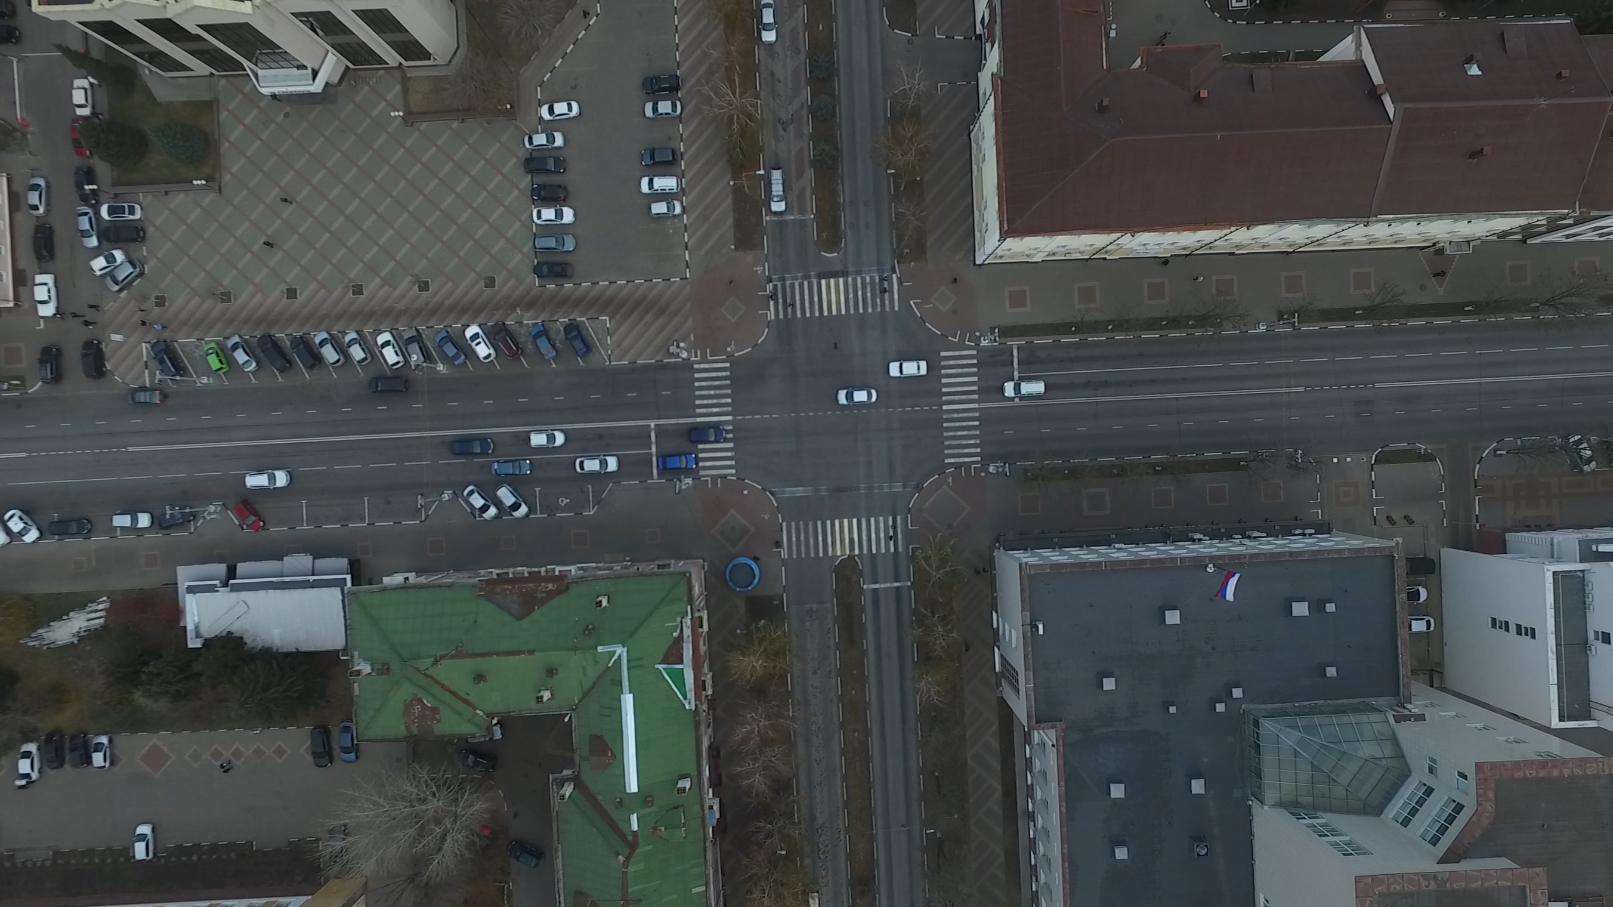car: (147, 341, 187, 383), (459, 484, 500, 521), (257, 332, 292, 374), (1561, 430, 1595, 472), (220, 332, 256, 372), (314, 330, 348, 370), (463, 324, 497, 363), (31, 274, 60, 319), (103, 264, 145, 295), (485, 323, 520, 361), (428, 326, 462, 363), (3, 509, 38, 547), (12, 741, 40, 787), (508, 838, 548, 870), (395, 328, 425, 370), (35, 732, 70, 769), (526, 324, 556, 365), (493, 482, 527, 517), (373, 329, 405, 367), (309, 726, 335, 773), (329, 824, 356, 868), (153, 503, 197, 529), (458, 748, 496, 777), (80, 340, 106, 383), (338, 331, 371, 365), (97, 220, 142, 246), (92, 256, 132, 284), (70, 125, 95, 168), (286, 333, 317, 369), (24, 179, 51, 220), (68, 78, 95, 116), (129, 821, 154, 863), (73, 210, 99, 252), (72, 169, 97, 210), (237, 468, 288, 488), (531, 207, 576, 229), (335, 721, 358, 764), (486, 458, 534, 480), (232, 499, 263, 532), (563, 324, 592, 359), (201, 341, 228, 377), (834, 386, 880, 408), (535, 100, 581, 121), (35, 344, 59, 385), (106, 207, 148, 229), (640, 100, 684, 121), (521, 159, 568, 178), (533, 235, 577, 255), (43, 521, 90, 539), (34, 228, 56, 267), (641, 75, 680, 97), (70, 733, 93, 770), (572, 455, 619, 473), (639, 177, 681, 197), (88, 736, 112, 771), (638, 147, 676, 169), (885, 359, 929, 378), (768, 168, 787, 213), (1001, 380, 1048, 398), (368, 377, 407, 398), (644, 200, 682, 221), (530, 184, 569, 204), (524, 133, 566, 152), (450, 437, 497, 454), (531, 262, 574, 280), (688, 427, 728, 446), (130, 386, 169, 405), (109, 513, 150, 530), (526, 430, 564, 449), (760, 1, 777, 43), (1407, 555, 1438, 576), (1, 516, 18, 555), (655, 454, 698, 468), (1404, 583, 1428, 605), (1404, 614, 1435, 630), (1, 27, 24, 45), (804, 889, 820, 907)
